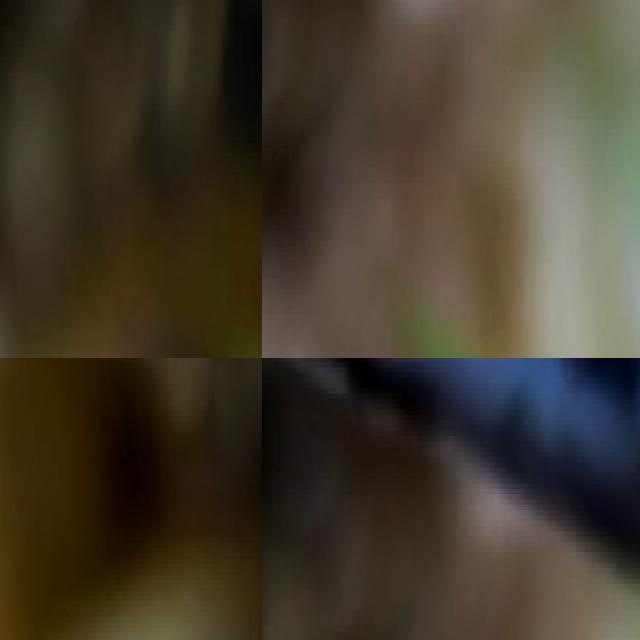fish: (0, 0, 262, 358), (0, 358, 262, 640)
